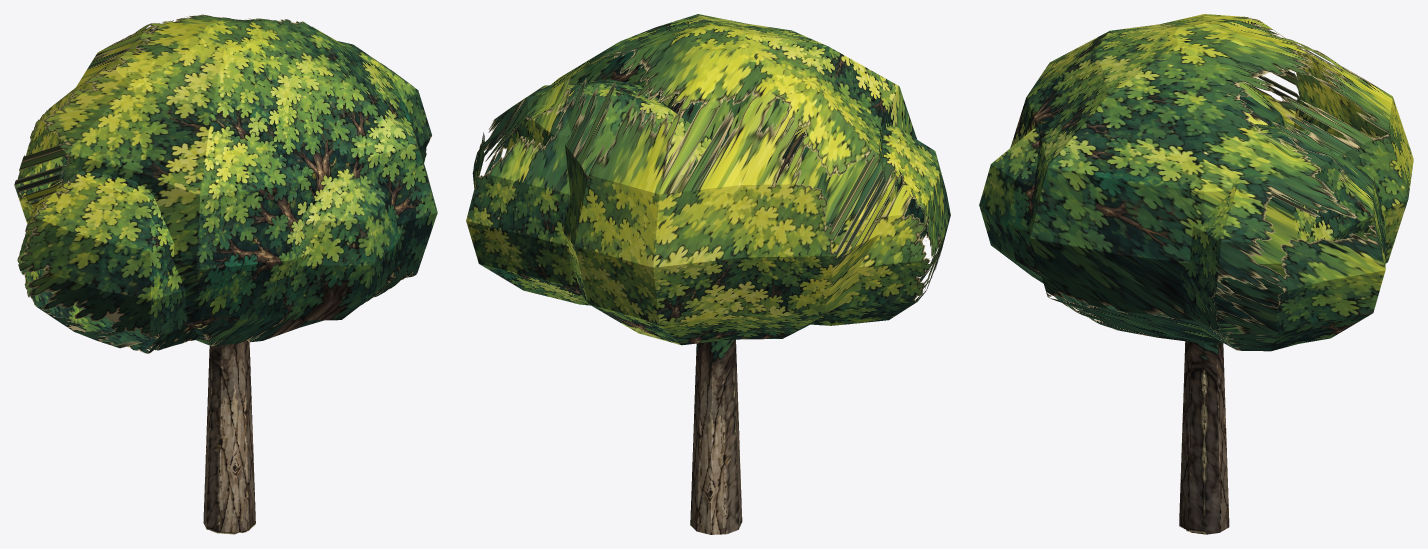
File: tree_a.glb
3 renders of one model, left to right at view 1: azimuth 30°, elevation 25°; view 2: azimuth 150°, elevation 25°; view 3: azimuth 270°, elevation 25°, orthographic.
Visible parts, largest first — view 1: tree_a_game; view 2: tree_a_game; view 3: tree_a_game.
Boxes of the visible parts, box(x1,y1,x2,y2) form: tree_a_game: box(14, 14, 437, 534); tree_a_game: box(466, 14, 950, 534); tree_a_game: box(979, 14, 1413, 534).
Bounding box in the file's own units: 4.08 × 4.5 × 3.64.
Materials: 1 (1 with a texture image).
